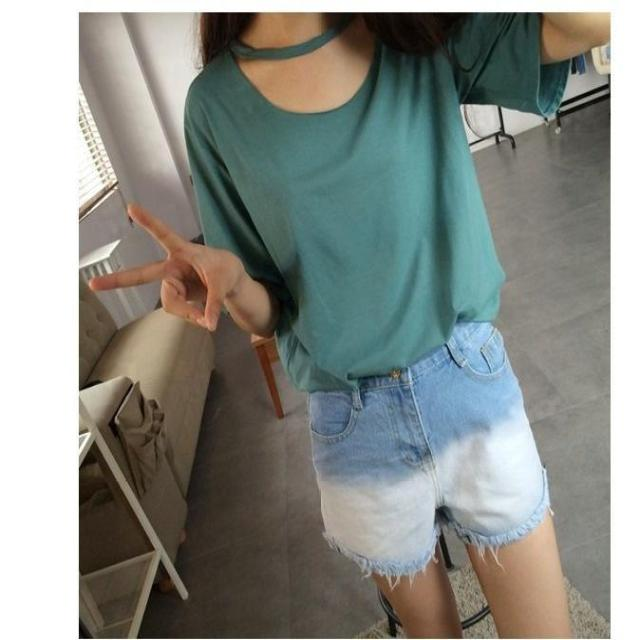short sleeve top: (189, 15, 546, 387)
shorts: (309, 308, 548, 549)
